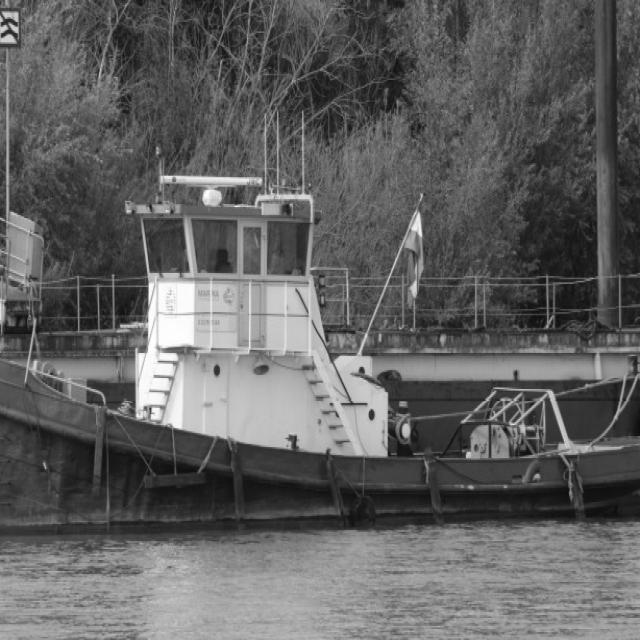tugboat: (1, 106, 640, 560)
